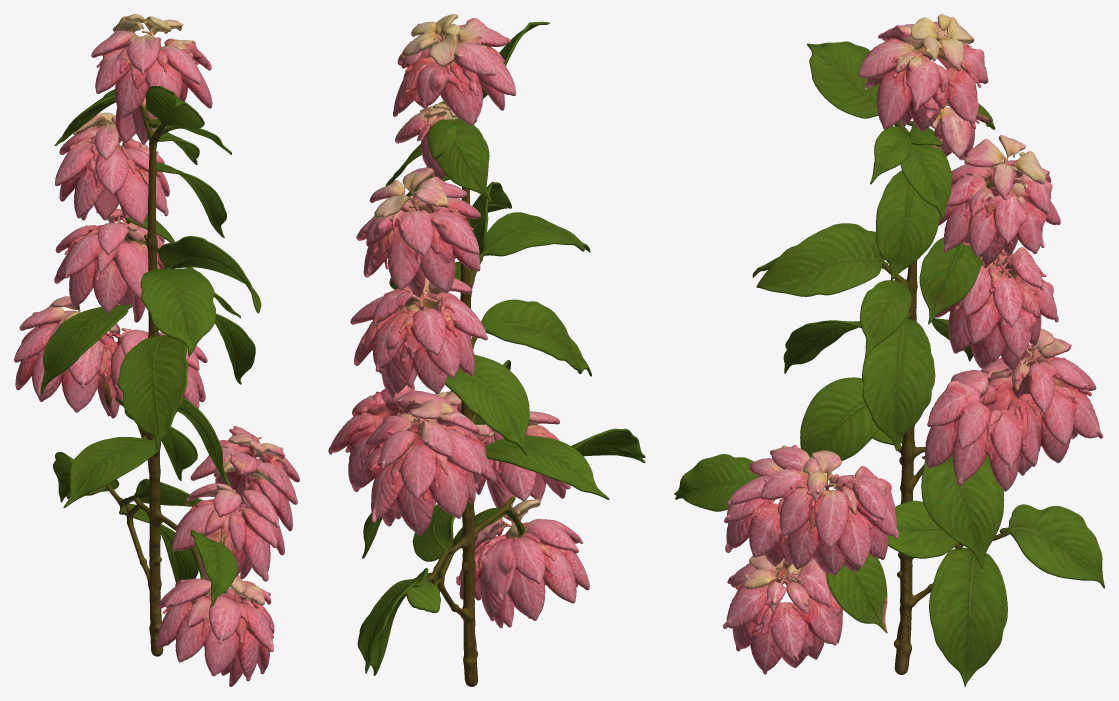
File: mussaenda_erythrophylla.fbx
3 renders of one model, left to right at view 1: azimuth 30°, elevation 25°; view 2: azimuth 150°, elevation 25°; view 3: azimuth 270°, elevation 25°, orthographic. The views are drawn at different scales.
Parts seen in each view (by area): view 1: tripo_node_54e6f409; view 2: tripo_node_54e6f409; view 3: tripo_node_54e6f409.
Part boxes in pixels (x1,y1,x2,y2): tripo_node_54e6f409: (14, 14, 299, 686); tripo_node_54e6f409: (328, 14, 645, 686); tripo_node_54e6f409: (674, 14, 1104, 686).
Bounding box in the file's own units: 35.74 × 98.22 × 58.13.
Materials: 1 (1 with a texture image).
